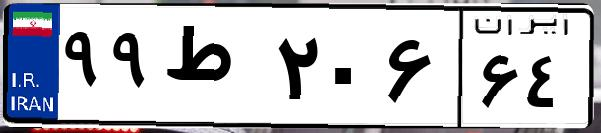0: (330, 28, 385, 110)
2: (270, 28, 330, 110)
4: (525, 38, 570, 115)
6: (385, 28, 445, 110), (475, 38, 525, 113)
9: (57, 26, 110, 100), (110, 28, 158, 98)
ط: (158, 20, 270, 120)
